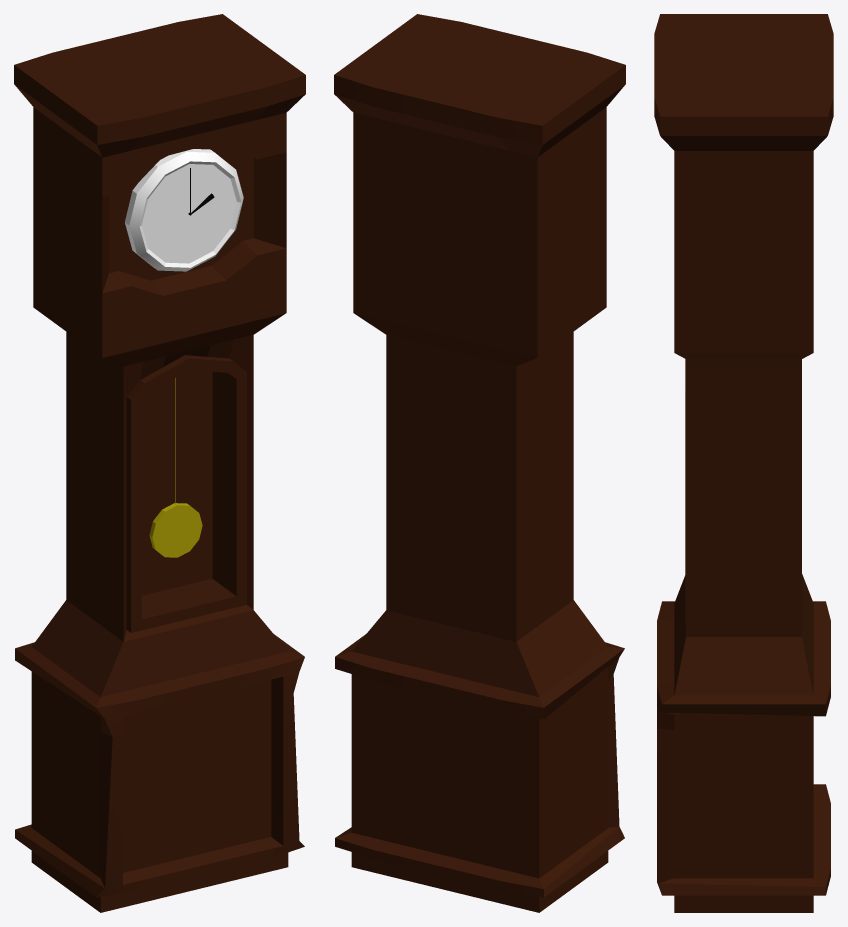
The model's file is GranfatherClock_Justin.FBX.
3 renders of one model, left to right at view 1: azimuth 30°, elevation 25°; view 2: azimuth 150°, elevation 25°; view 3: azimuth 270°, elevation 25°, orthographic.
Parts seen in each view (by area): view 1: Box001; view 2: Box001; view 3: Box001.
Boxes of the visible parts, <box> form: Box001: <box>14,14,305,912</box>; Box001: <box>334,14,625,912</box>; Box001: <box>654,14,833,912</box>.
Size of the model in its own units: 23.47 by 85.32 by 17.32.
